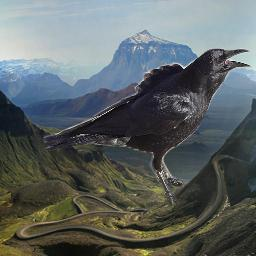Crow: (43, 47, 252, 210)
